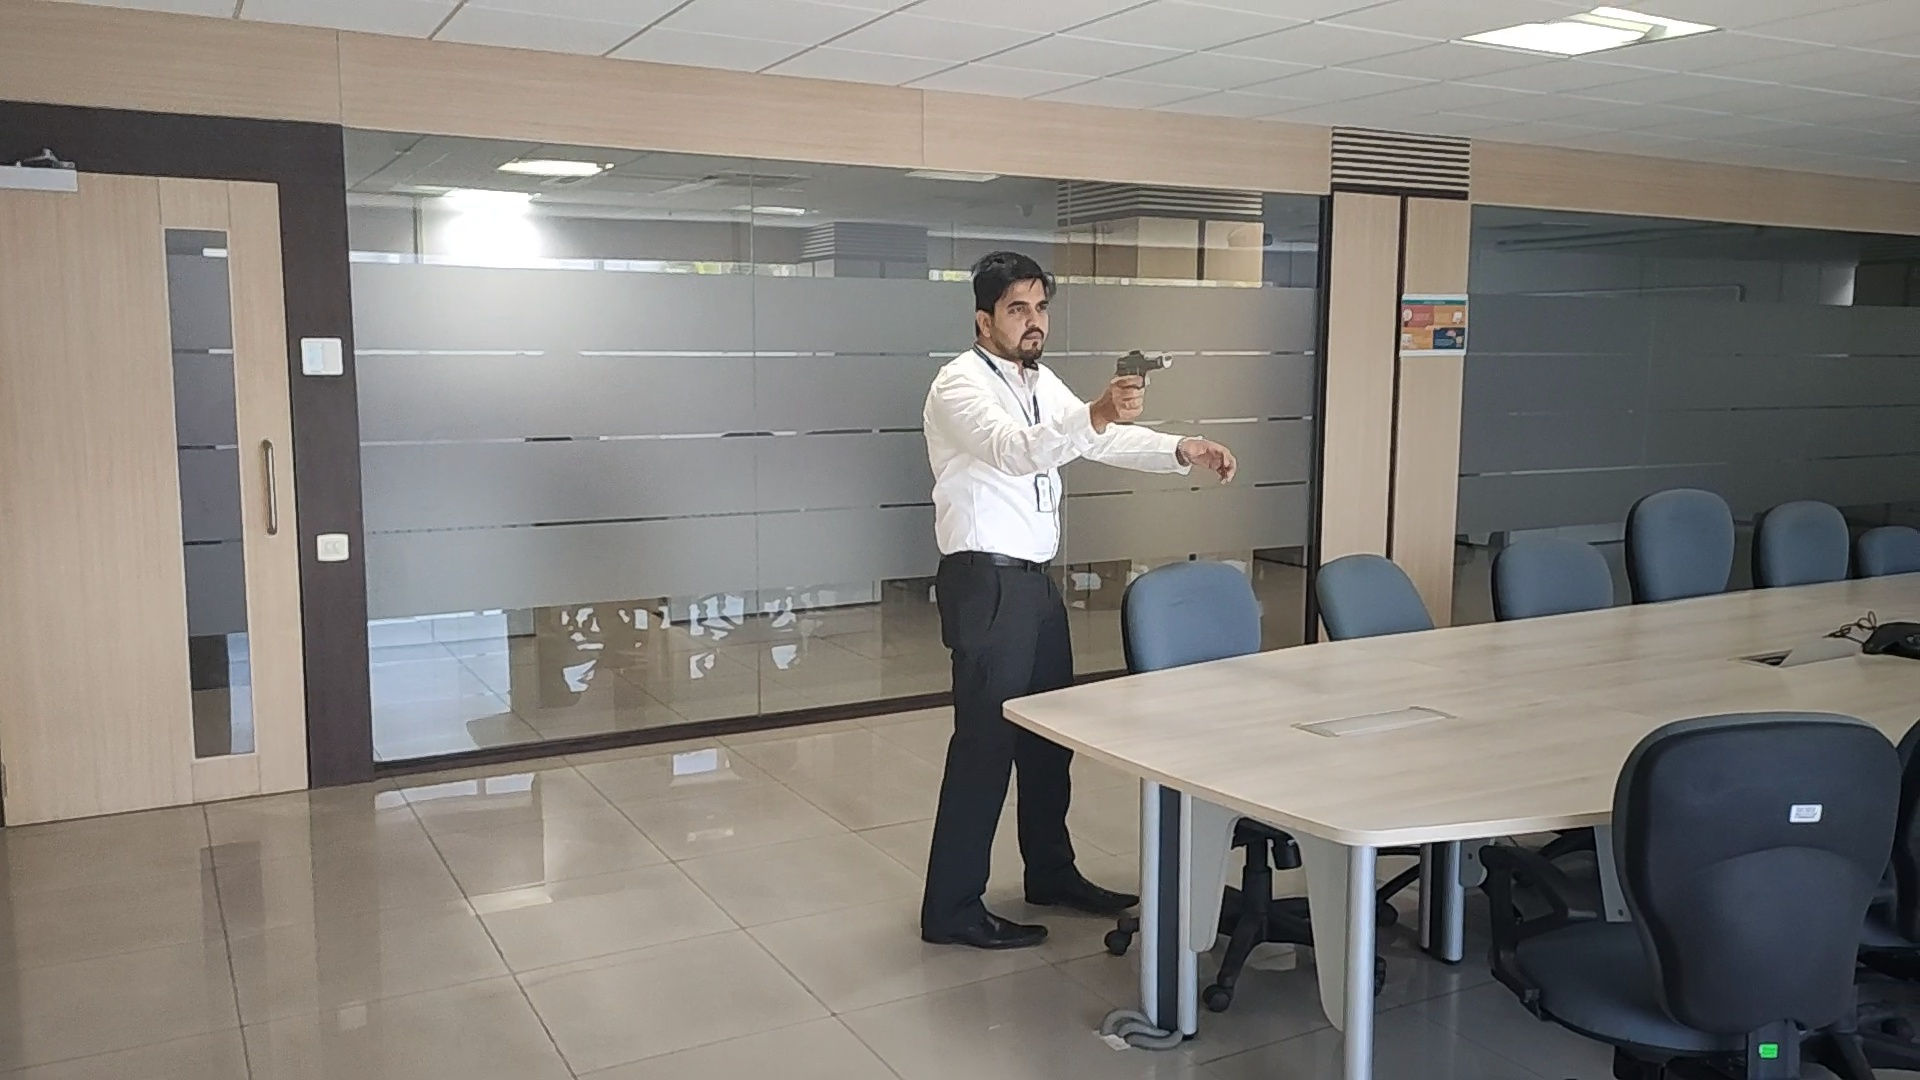gun: (1113, 348, 1176, 382)
